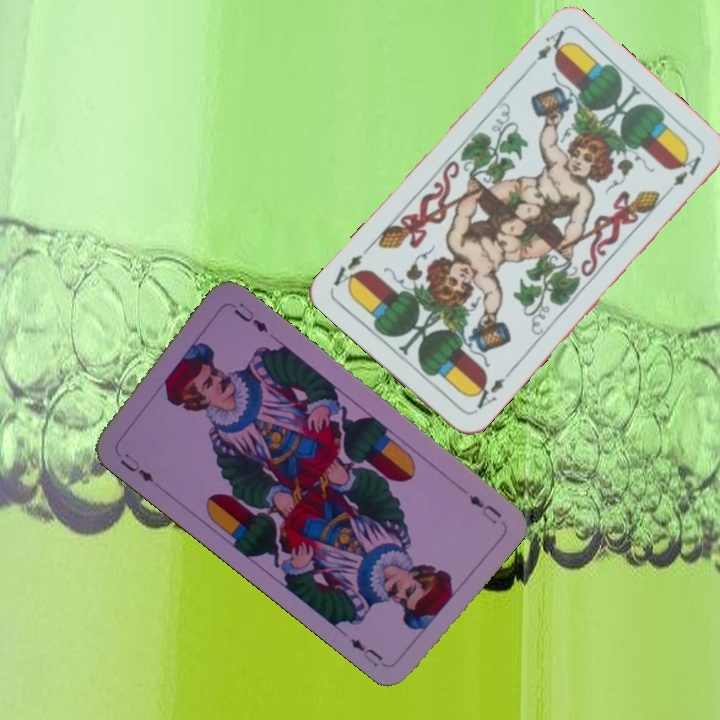EA: (467, 367, 512, 416), (532, 26, 572, 63)
EU: (464, 490, 505, 527), (115, 449, 157, 485)
